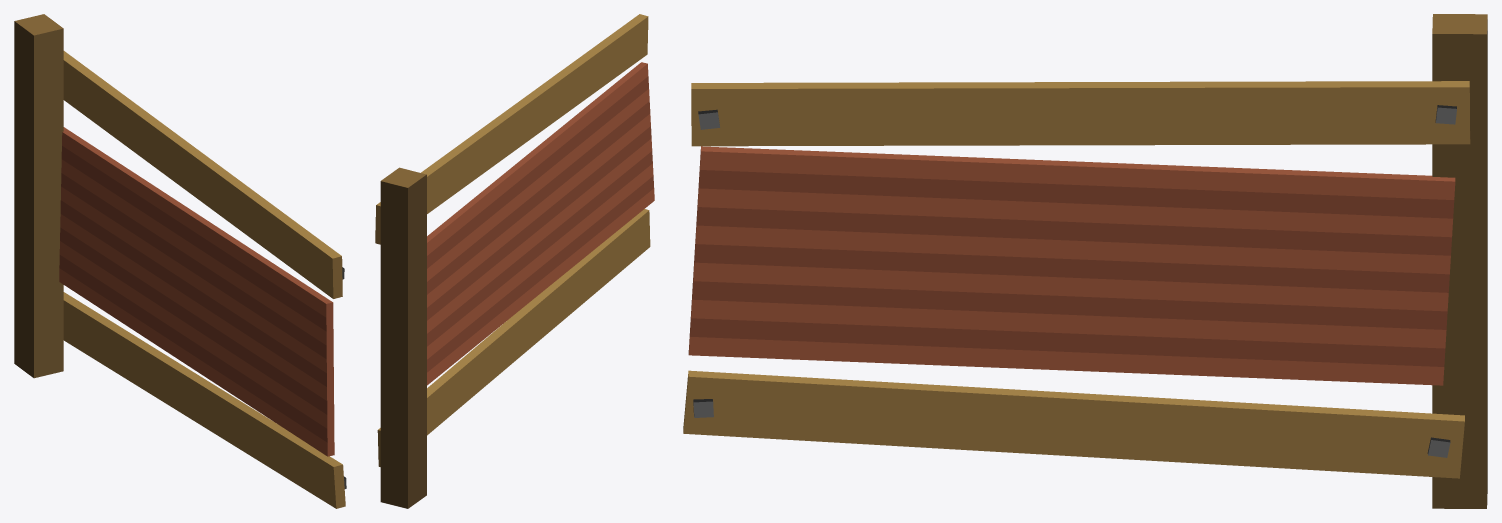
Rendered from Fence_Corrugated_Damaged_03.fbx.
3 renders of one model, left to right at view 1: azimuth 30°, elevation 25°; view 2: azimuth 150°, elevation 25°; view 3: azimuth 270°, elevation 25°, orthographic. The views are drawn at different scales.
Parts seen in each view (by area): view 1: Fence_Corrugated_Damaged_03; view 2: Fence_Corrugated_Damaged_03; view 3: Fence_Corrugated_Damaged_03.
Part boxes in pixels (box(x1,y1,x2,y2)): Fence_Corrugated_Damaged_03: box(14, 14, 346, 508); Fence_Corrugated_Damaged_03: box(375, 14, 654, 508); Fence_Corrugated_Damaged_03: box(683, 14, 1487, 508).
Bounding box in the file's own units: 0.4361 × 4.76 × 3.1.
